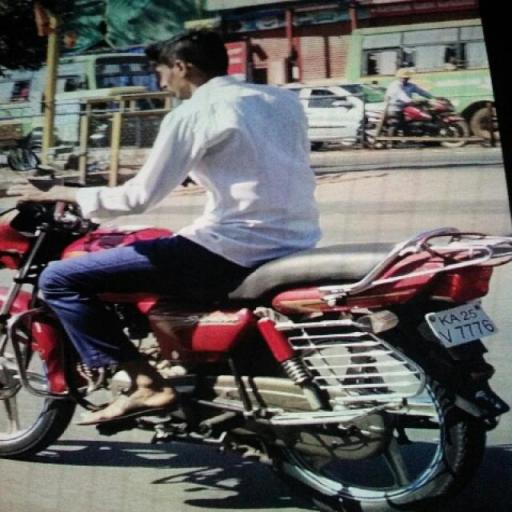bike: (0, 22, 506, 507)
numberplate: (421, 291, 504, 355)
withouthelmet: (162, 34, 222, 90)
